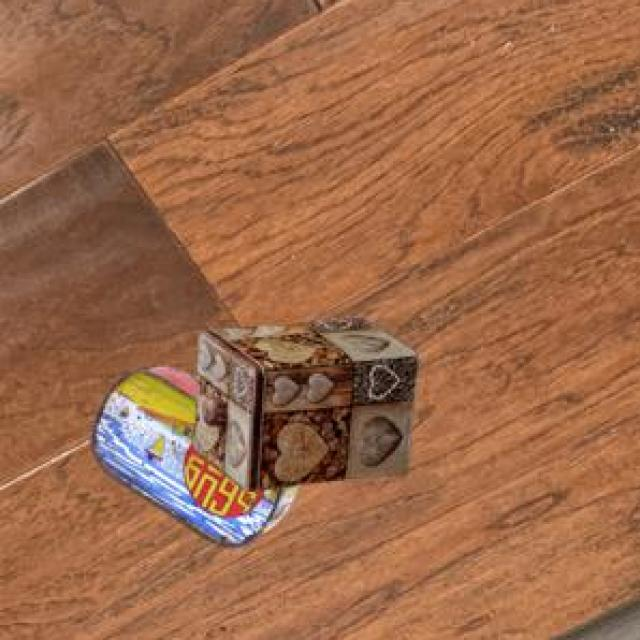logam: (190, 321, 416, 495), (89, 370, 295, 551)
